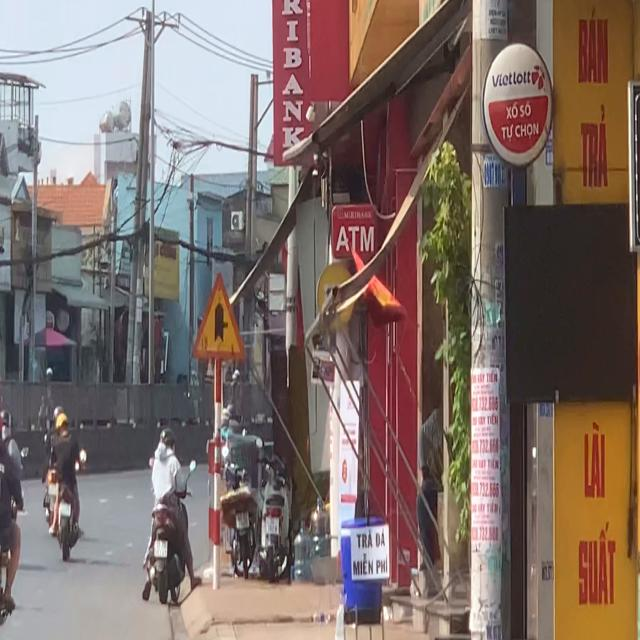Giao voi duong khong uu tien: (187, 269, 250, 367)
